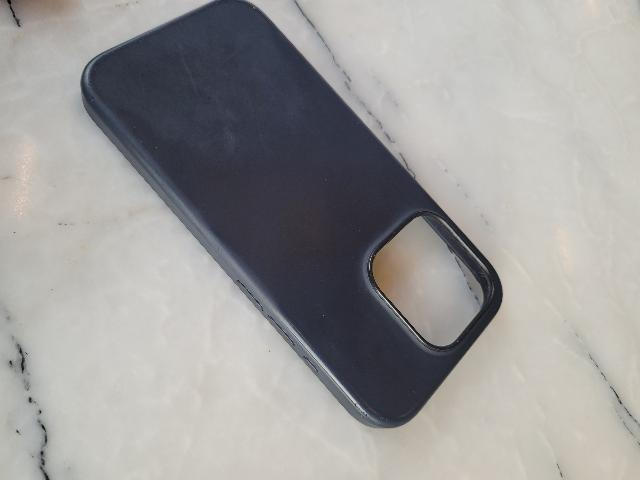Plastik: (83, 0, 516, 430)
